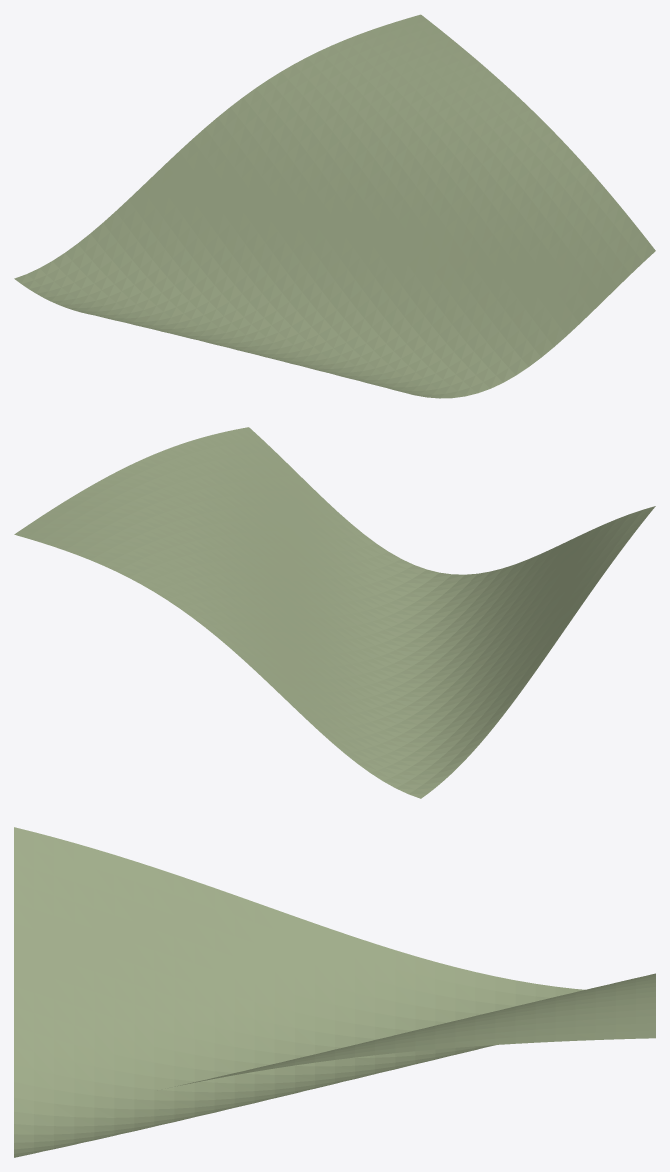
File: expanse-15-31.glb
3 views of the same model, one above another, from view 1: azimuth 30°, elevation 25°; view 2: azimuth 150°, elevation 25°; view 3: azimuth 270°, elevation 25° (orthographic). The views are drawn at different scales.
Parts seen in each view (by area): view 1: expanse-15-31; view 2: expanse-15-31; view 3: expanse-15-31.
Part boxes in pixels (bbox=[...]): expanse-15-31: bbox=[14, 14, 655, 398]; expanse-15-31: bbox=[14, 427, 655, 798]; expanse-15-31: bbox=[14, 827, 655, 1157].
Size of the model in its own units: 256 by 99.16 by 256.
